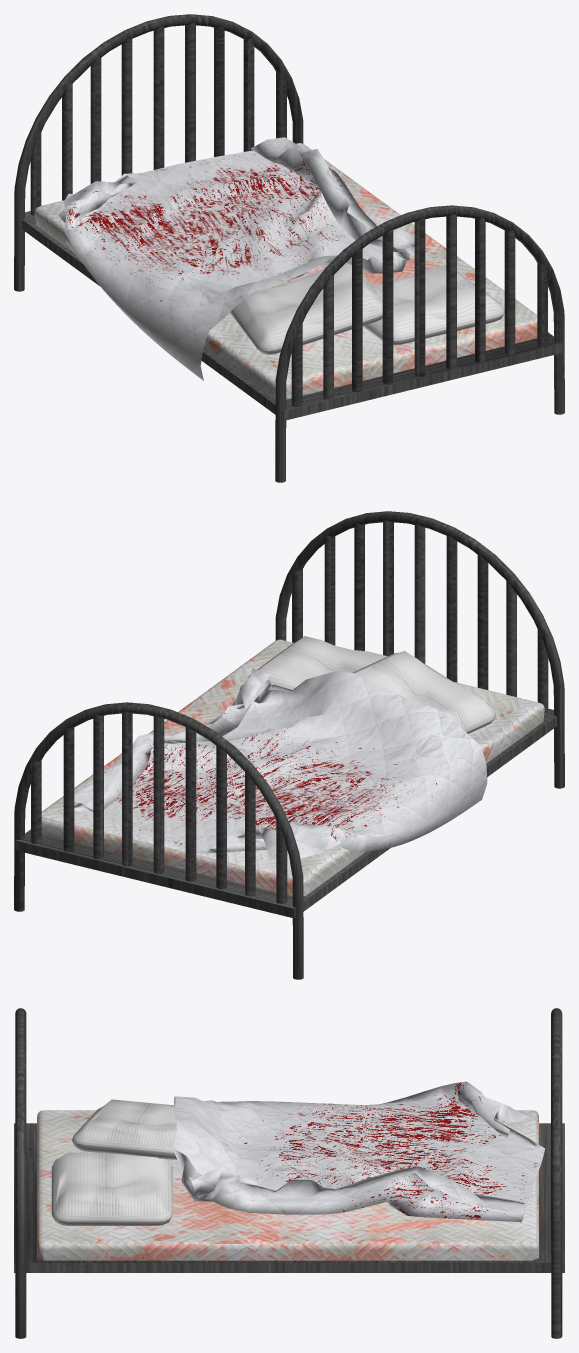
The model's file is Bed.FBX.
3 renders of one model, top to bottom at view 1: azimuth 30°, elevation 25°; view 2: azimuth 150°, elevation 25°; view 3: azimuth 270°, elevation 25°, orthographic. The views are drawn at different scales.
Visible parts, largest first — view 1: Box001, Plane001, ChamferBox002, ChamferBox001; view 2: Box001, Plane001, ChamferBox002, ChamferBox001; view 3: Box001, Plane001, ChamferBox001, ChamferBox002.
Part boxes in pixels (<box>): Box001: <box>14,14,564,482</box>; Plane001: <box>58,137,414,380</box>; ChamferBox002: <box>230,263,382,354</box>; ChamferBox001: <box>363,265,504,345</box>; Box001: <box>14,511,564,979</box>; Plane001: <box>74,668,487,862</box>; ChamferBox002: <box>352,651,495,733</box>; ChamferBox001: <box>247,636,387,689</box>; Box001: <box>14,1008,564,1338</box>; Plane001: <box>172,1081,544,1222</box>; ChamferBox001: <box>51,1152,172,1225</box>; ChamferBox002: <box>72,1099,176,1159</box>.
Size of the model in its own units: 64.27 by 48.56 by 100.
Materials: 3 (3 with a texture image).
